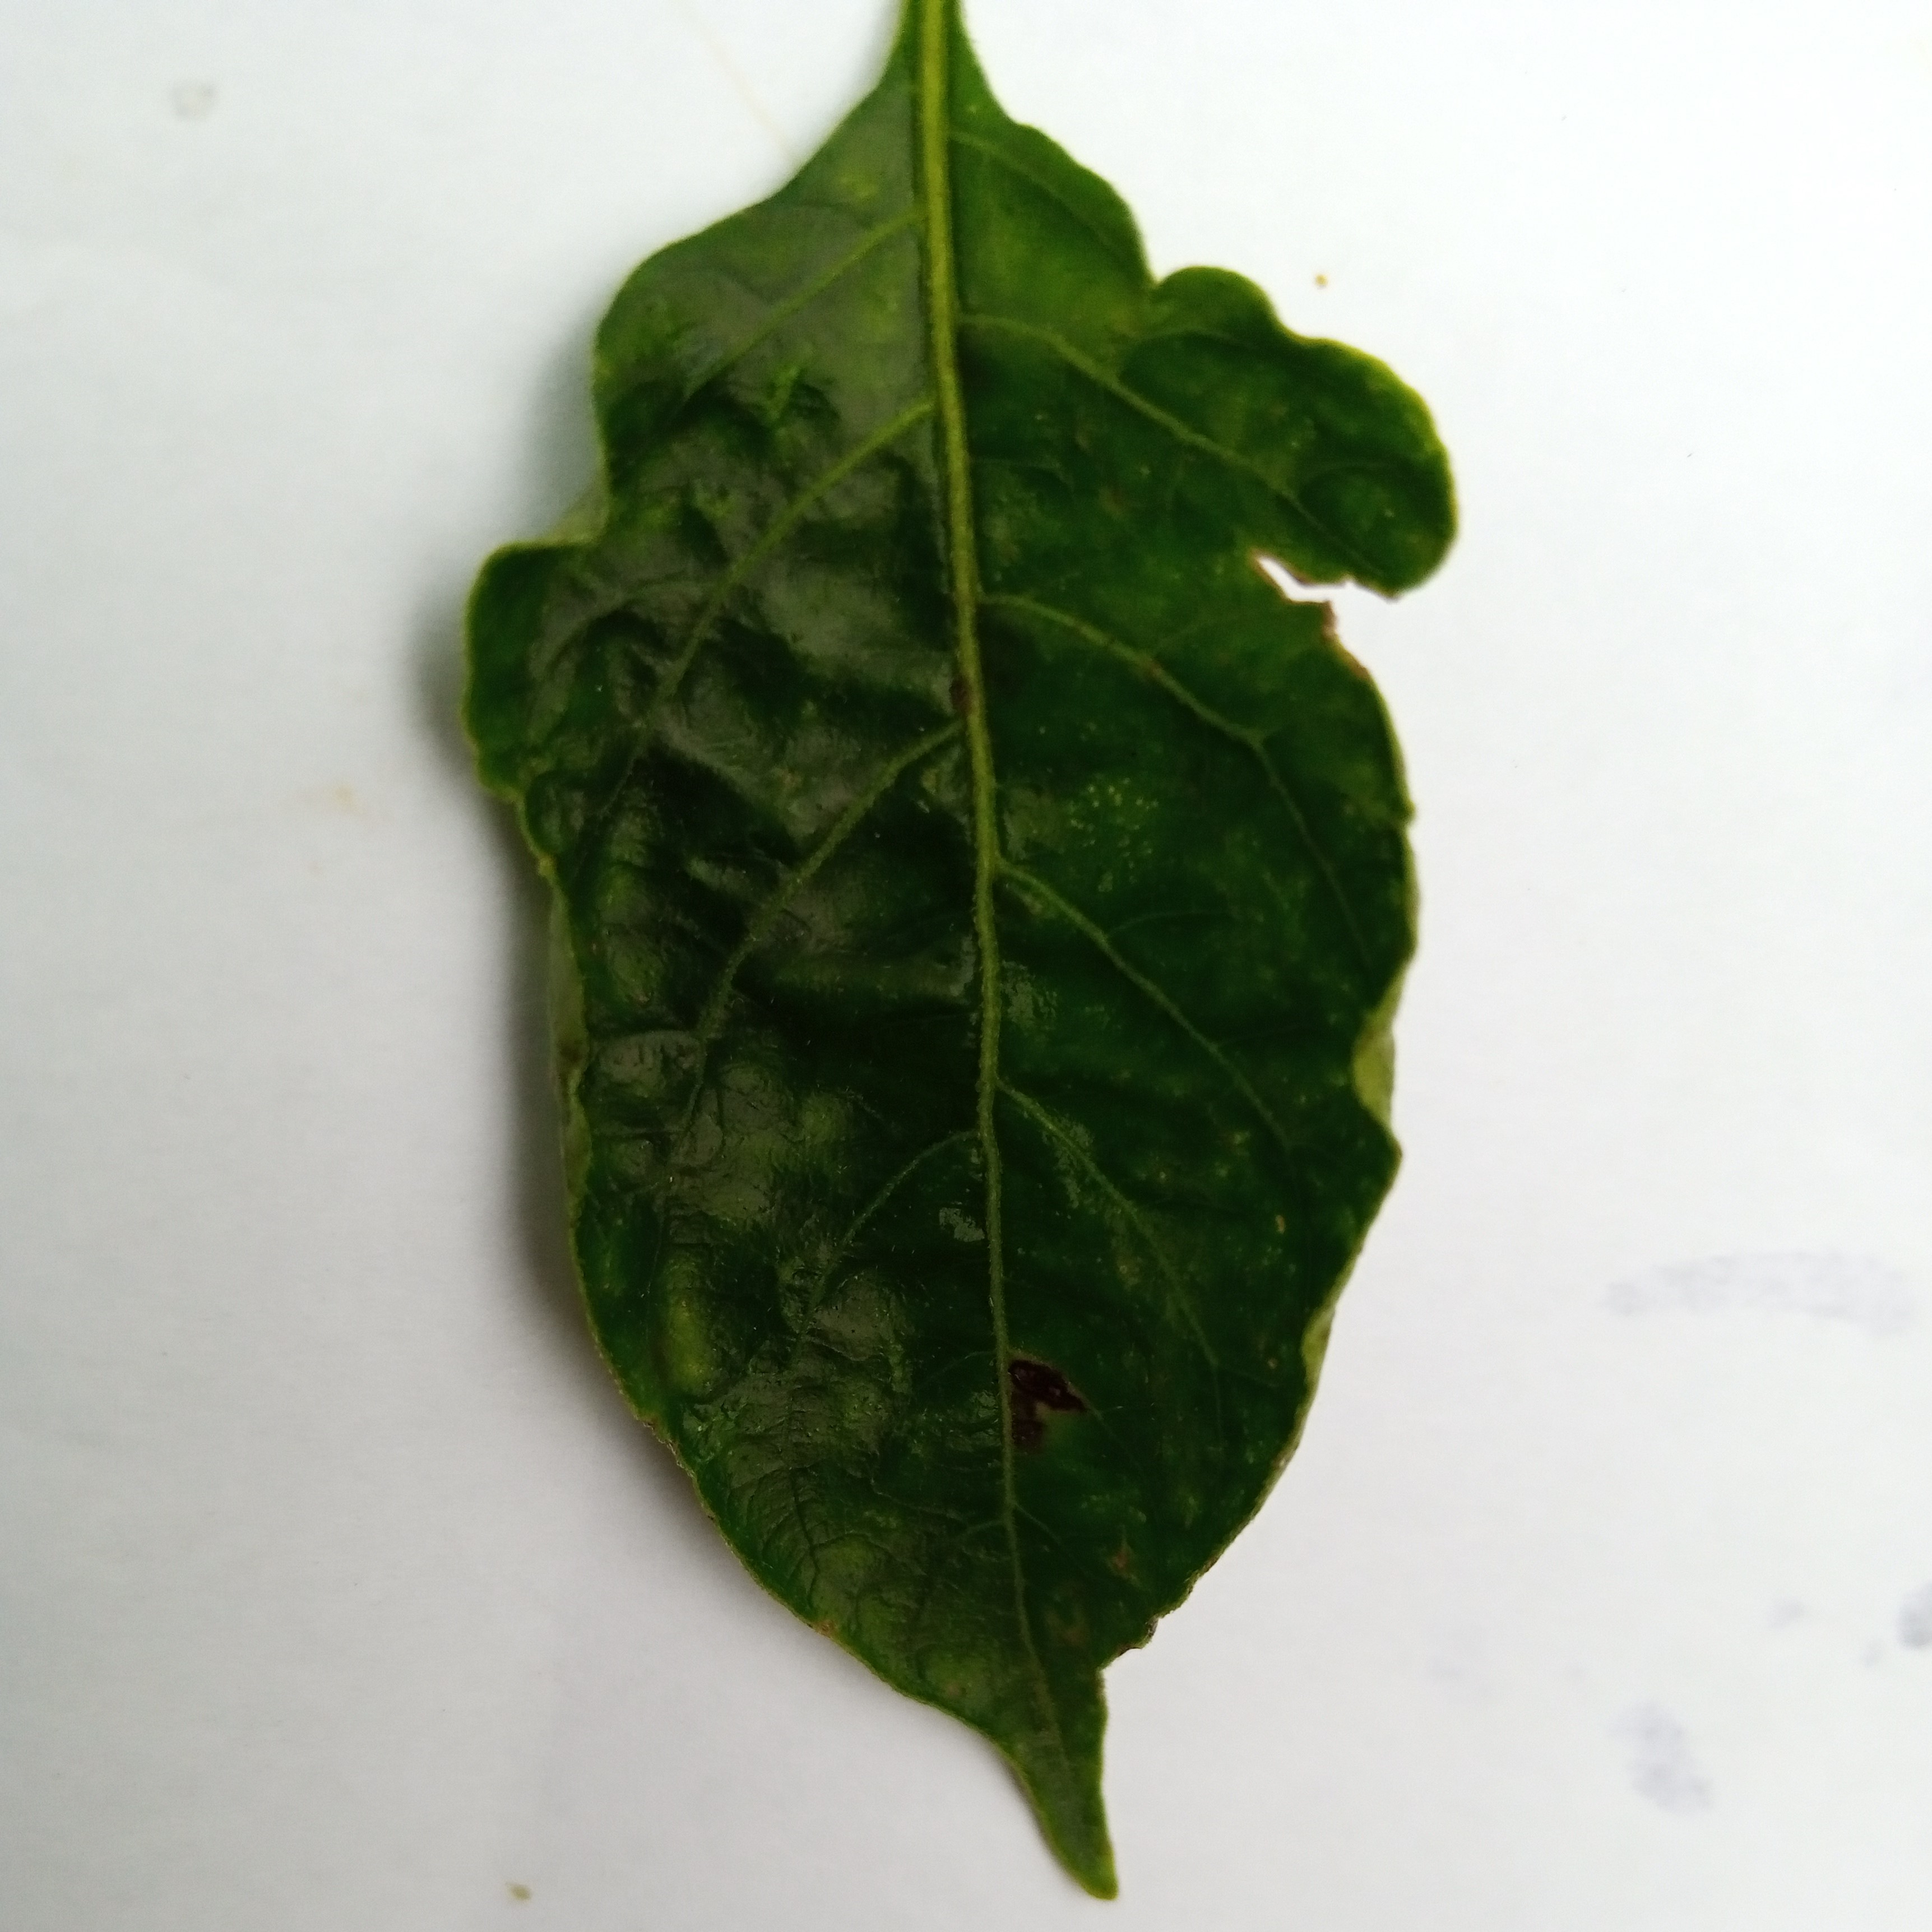Leaf: (320, 48, 1543, 1932)
